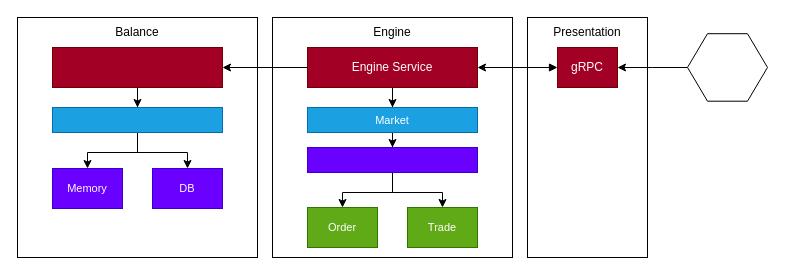
The diagram is 785 pixels wide and 275 high, and some of its shapes have lost their labels. The centre of each missing label's shape, as x and y in pixels:
"Balance Service" goes at pixel 137 67.
"Client" goes at pixel 727 67.
"Orderbook" goes at pixel 392 159.
"Repositories" goes at pixel 137 119.
